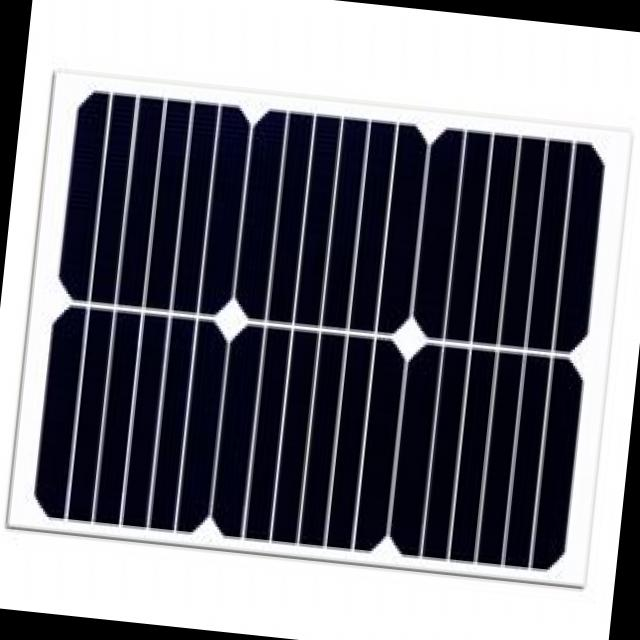no faulty: (31, 91, 600, 570)
